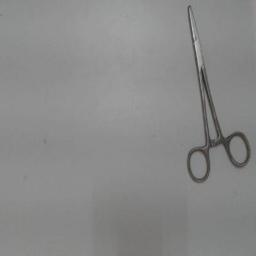Mayo Needle Holder: (180, 2, 254, 190)
